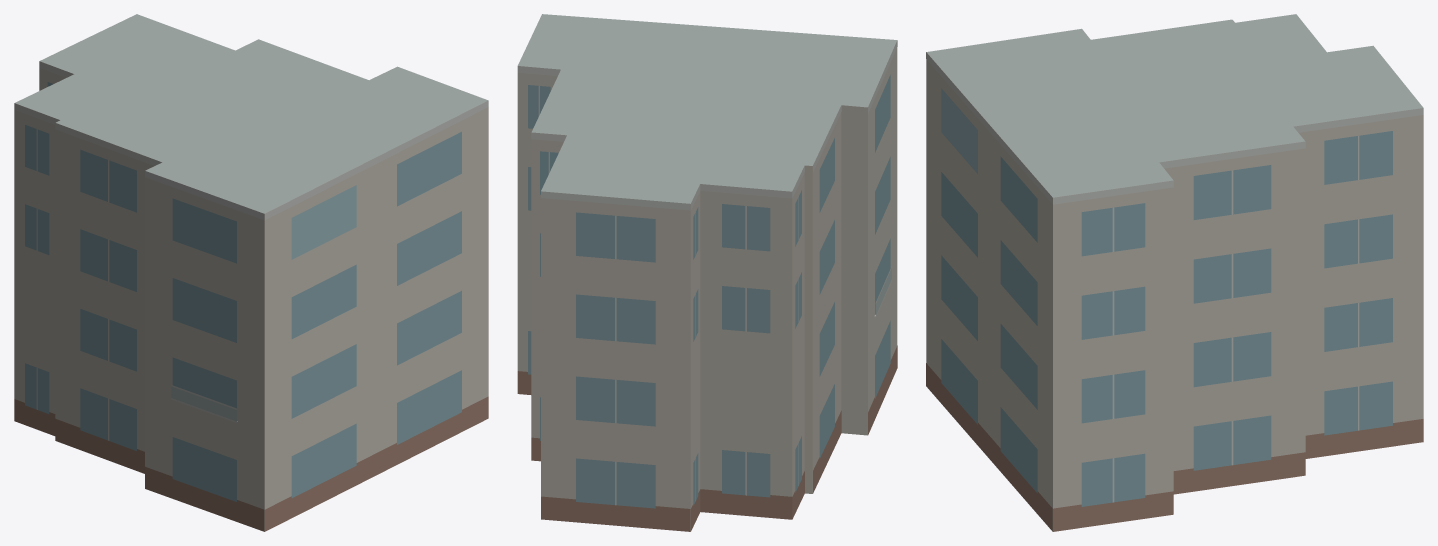
The model's file is survey-upis-32802719.glb.
3 renders of one model, left to right at view 1: azimuth 30°, elevation 25°; view 2: azimuth 150°, elevation 25°; view 3: azimuth 270°, elevation 25°, orthographic. The views are drawn at different scales.
Parts seen in each view (by area): view 1: survey-upis-32802719.tmp; view 2: survey-upis-32802719.tmp; view 3: survey-upis-32802719.tmp.
Part boxes in pixels (box(x1,y1,x2,y2)): survey-upis-32802719.tmp: box(14, 14, 488, 531); survey-upis-32802719.tmp: box(517, 14, 897, 531); survey-upis-32802719.tmp: box(926, 14, 1423, 531).
Size of the model in its own units: 13.93 by 11.8 by 15.93.
